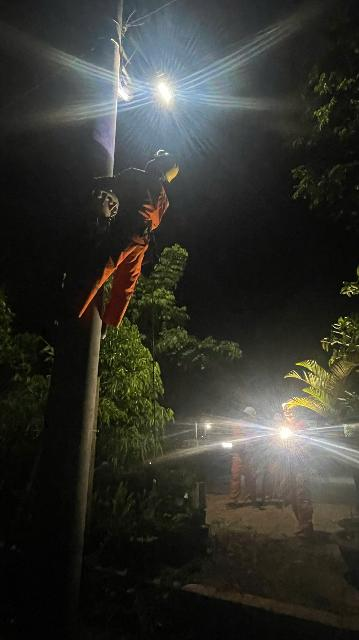harness: (103, 210, 162, 248)
helmet: (155, 146, 183, 186)
shoes: (93, 321, 112, 339)
